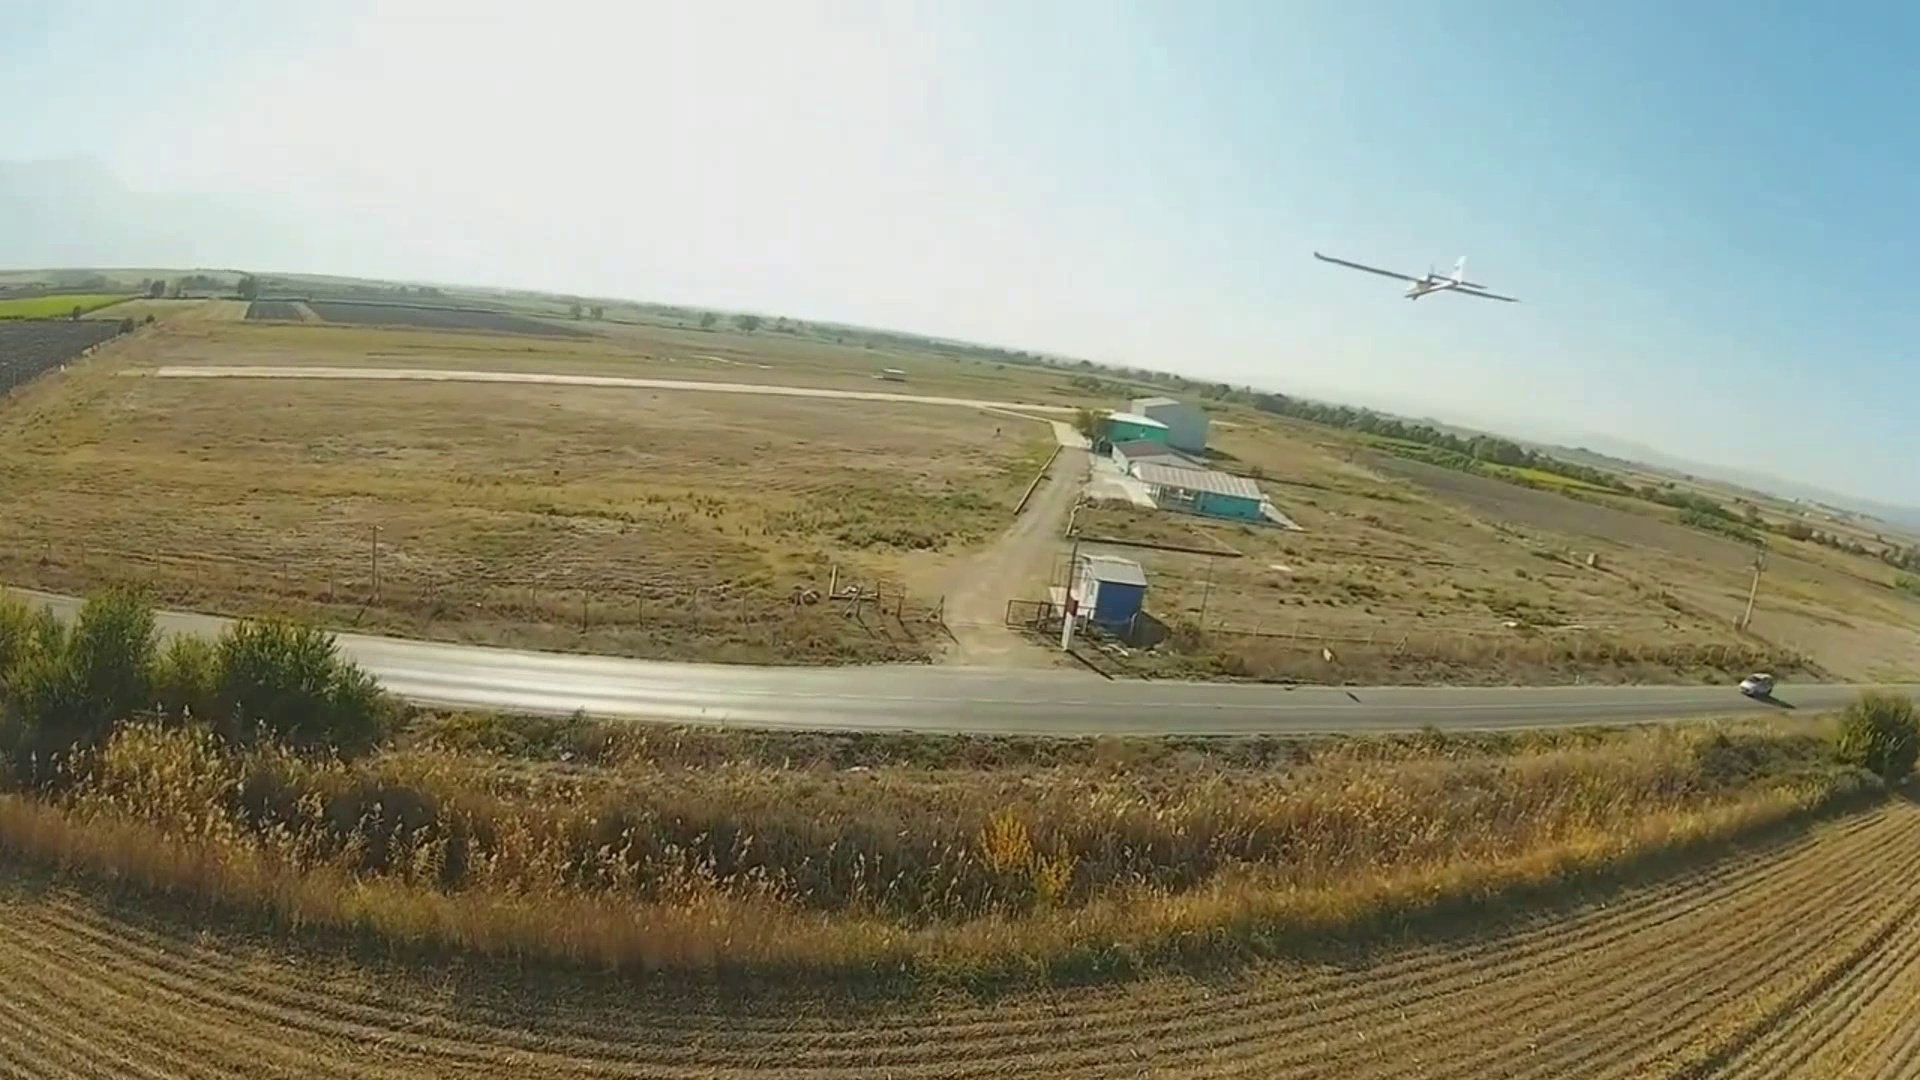airplane: (1311, 247, 1520, 305)
